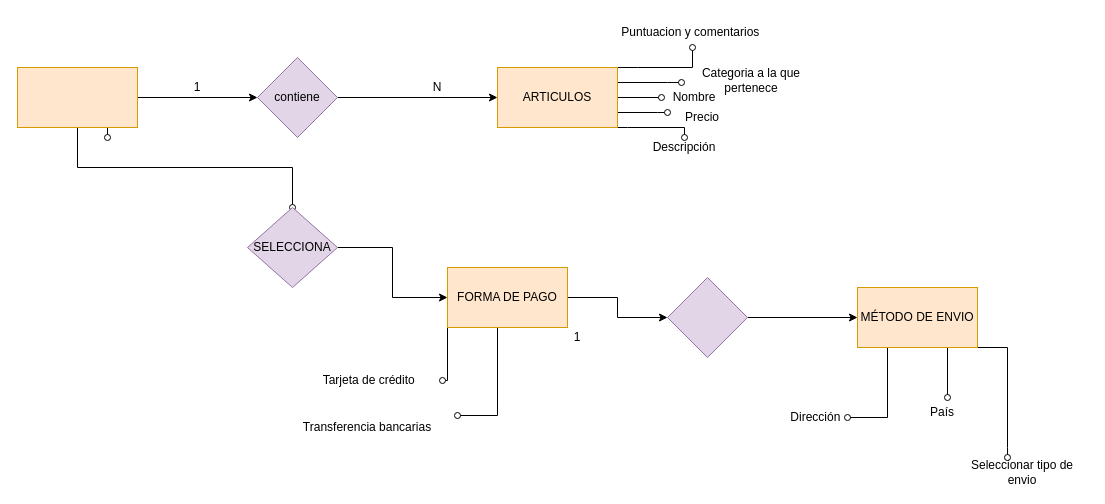
The diagram is 1105 pixels wide and 504 high, and some of its shapes have lost their labels. Each missing label, with the box of its shape:
Carrito: (16, 66, 138, 128)
DECIDE: (666, 276, 748, 358)
